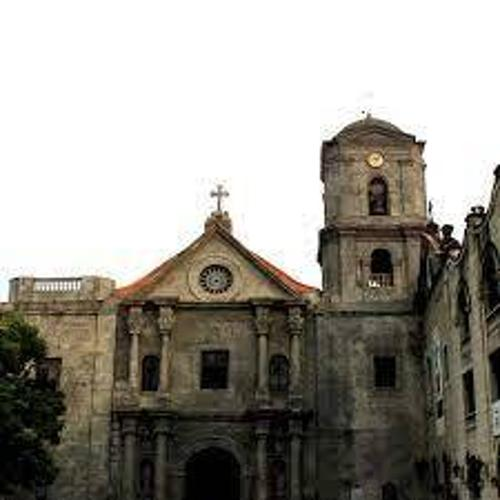San Agustin Church: (117, 105, 430, 500)
